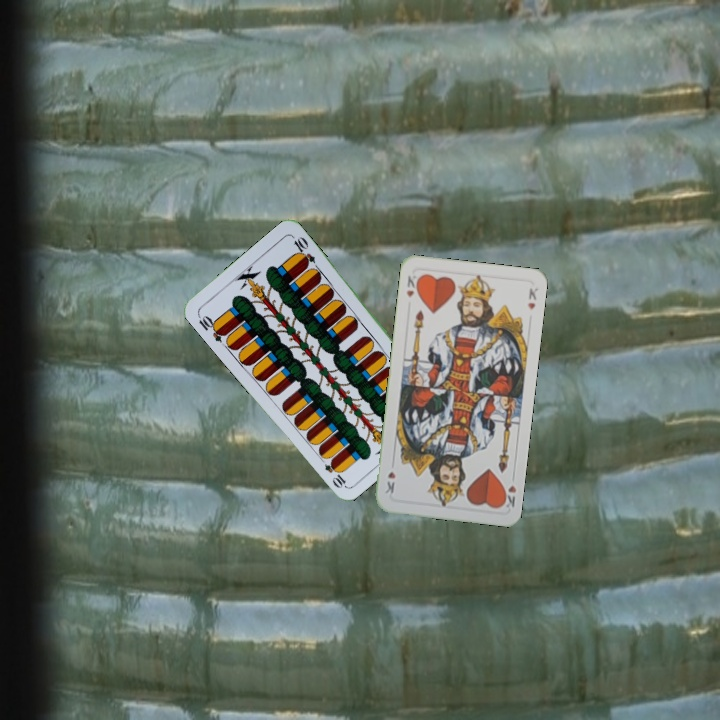E10: (194, 311, 229, 345)
HK: (498, 470, 519, 510), (402, 271, 422, 300)
